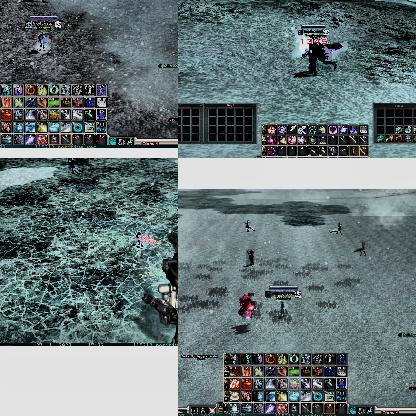caliana: (310, 44, 332, 74), (68, 158, 83, 175), (354, 242, 366, 256), (329, 223, 341, 235), (246, 249, 254, 265), (244, 220, 254, 232)
